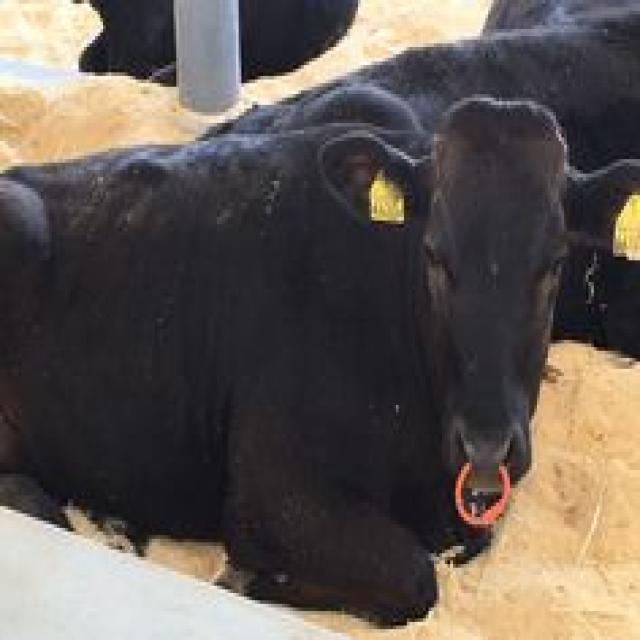Herbivorous: (0, 87, 640, 629)
